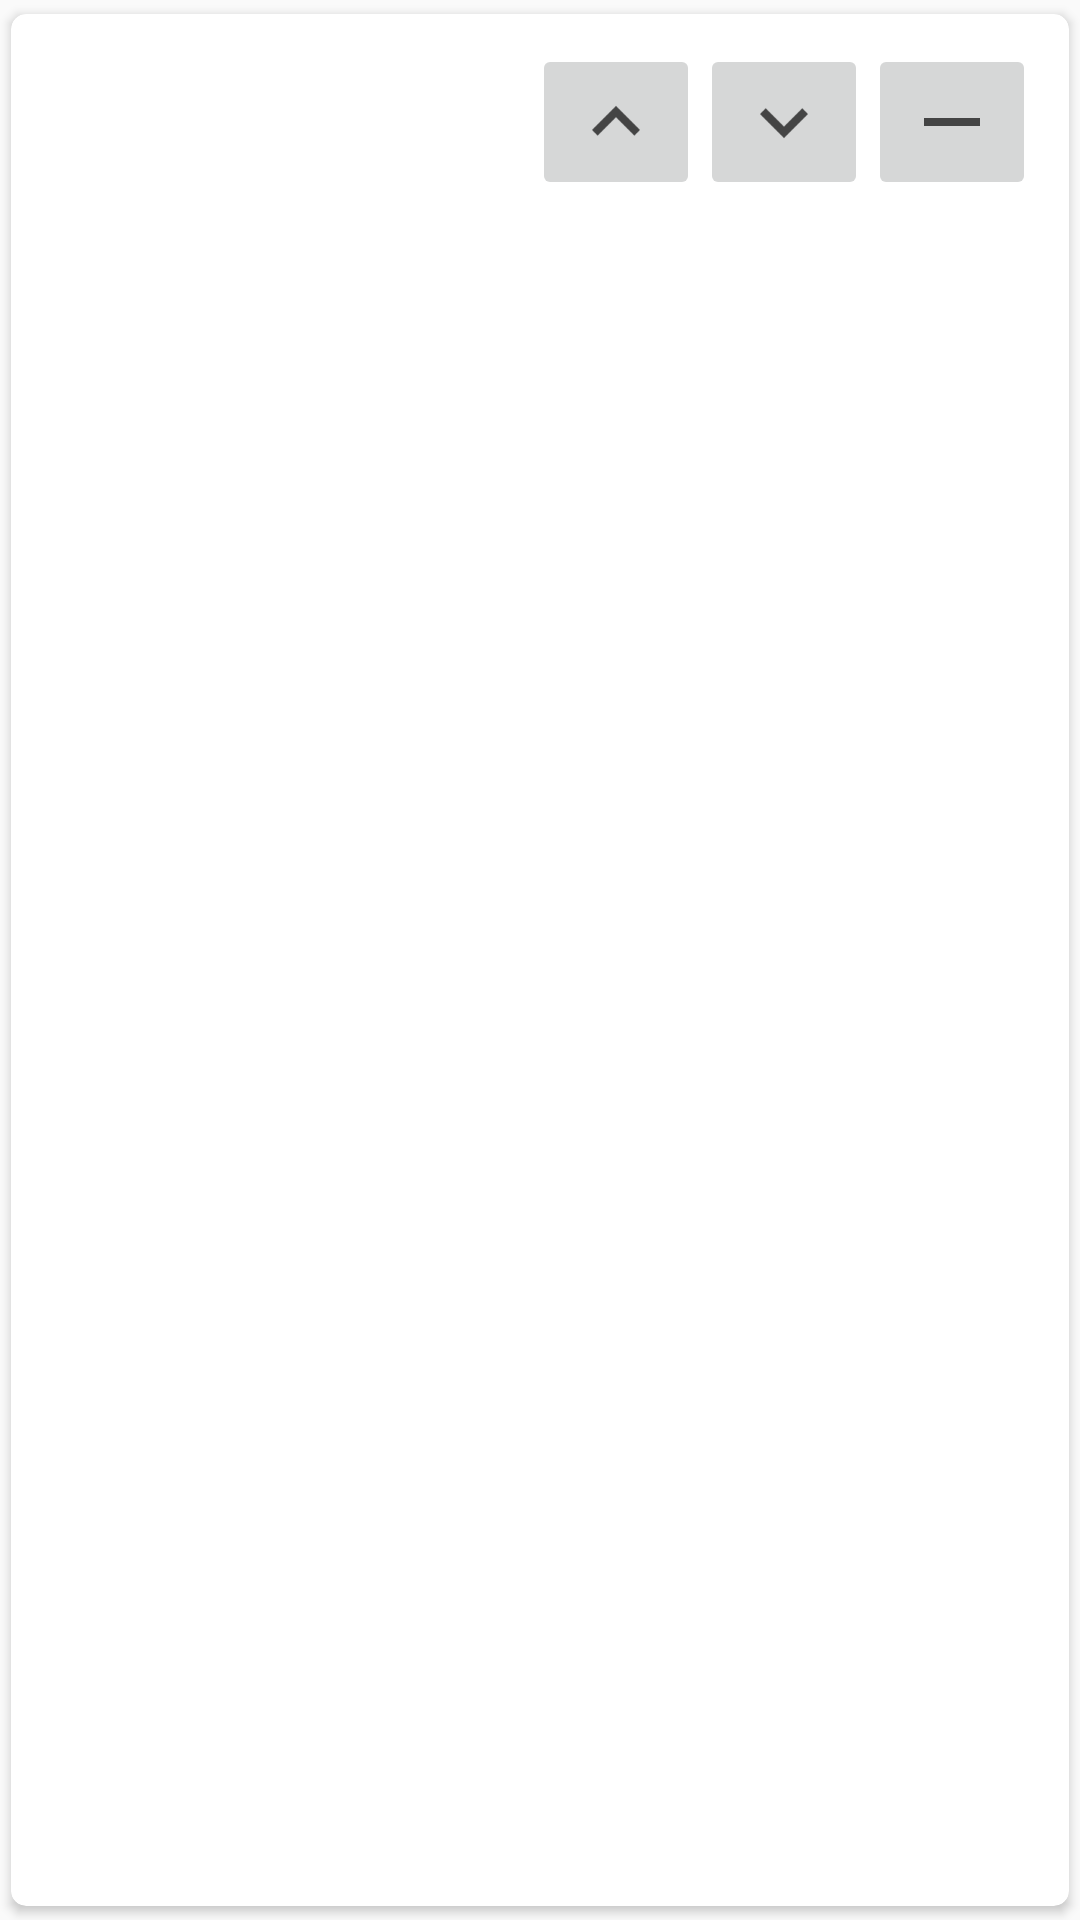

Icon click points for this 1080 x 1920 phone screenshot, format (x=x, y=y):
chevron down: (x=784, y=122)
chevron up: (x=616, y=122)
minus: (x=952, y=122)
